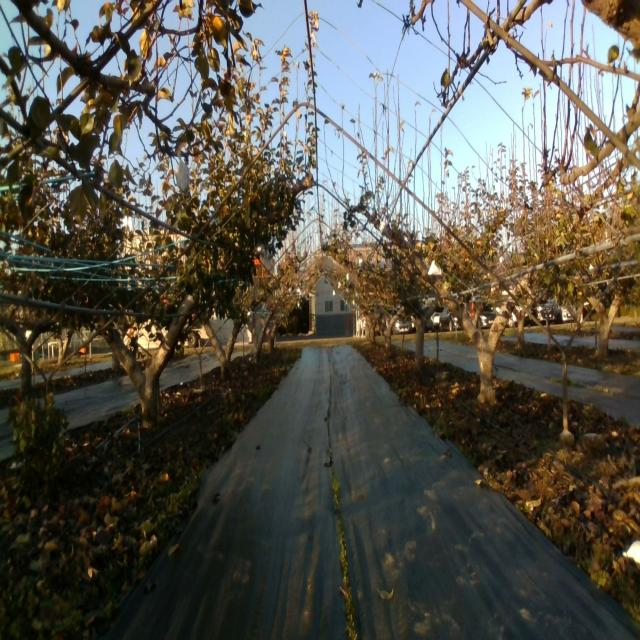pearbags: (174, 151, 190, 197)
